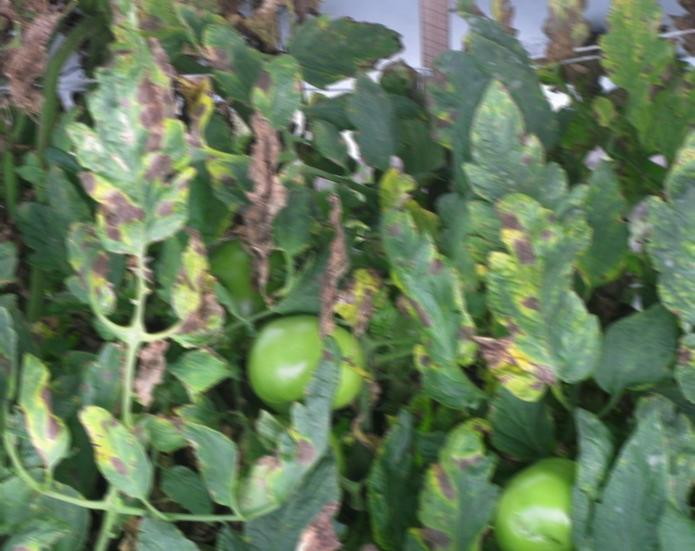Tomato Early blight leaf: (480, 177, 597, 407), (87, 17, 197, 250), (395, 157, 474, 425), (240, 341, 347, 514), (402, 418, 501, 551), (648, 117, 695, 335), (153, 245, 235, 345), (93, 391, 154, 497), (68, 197, 118, 318), (15, 359, 72, 462), (249, 48, 309, 125)
